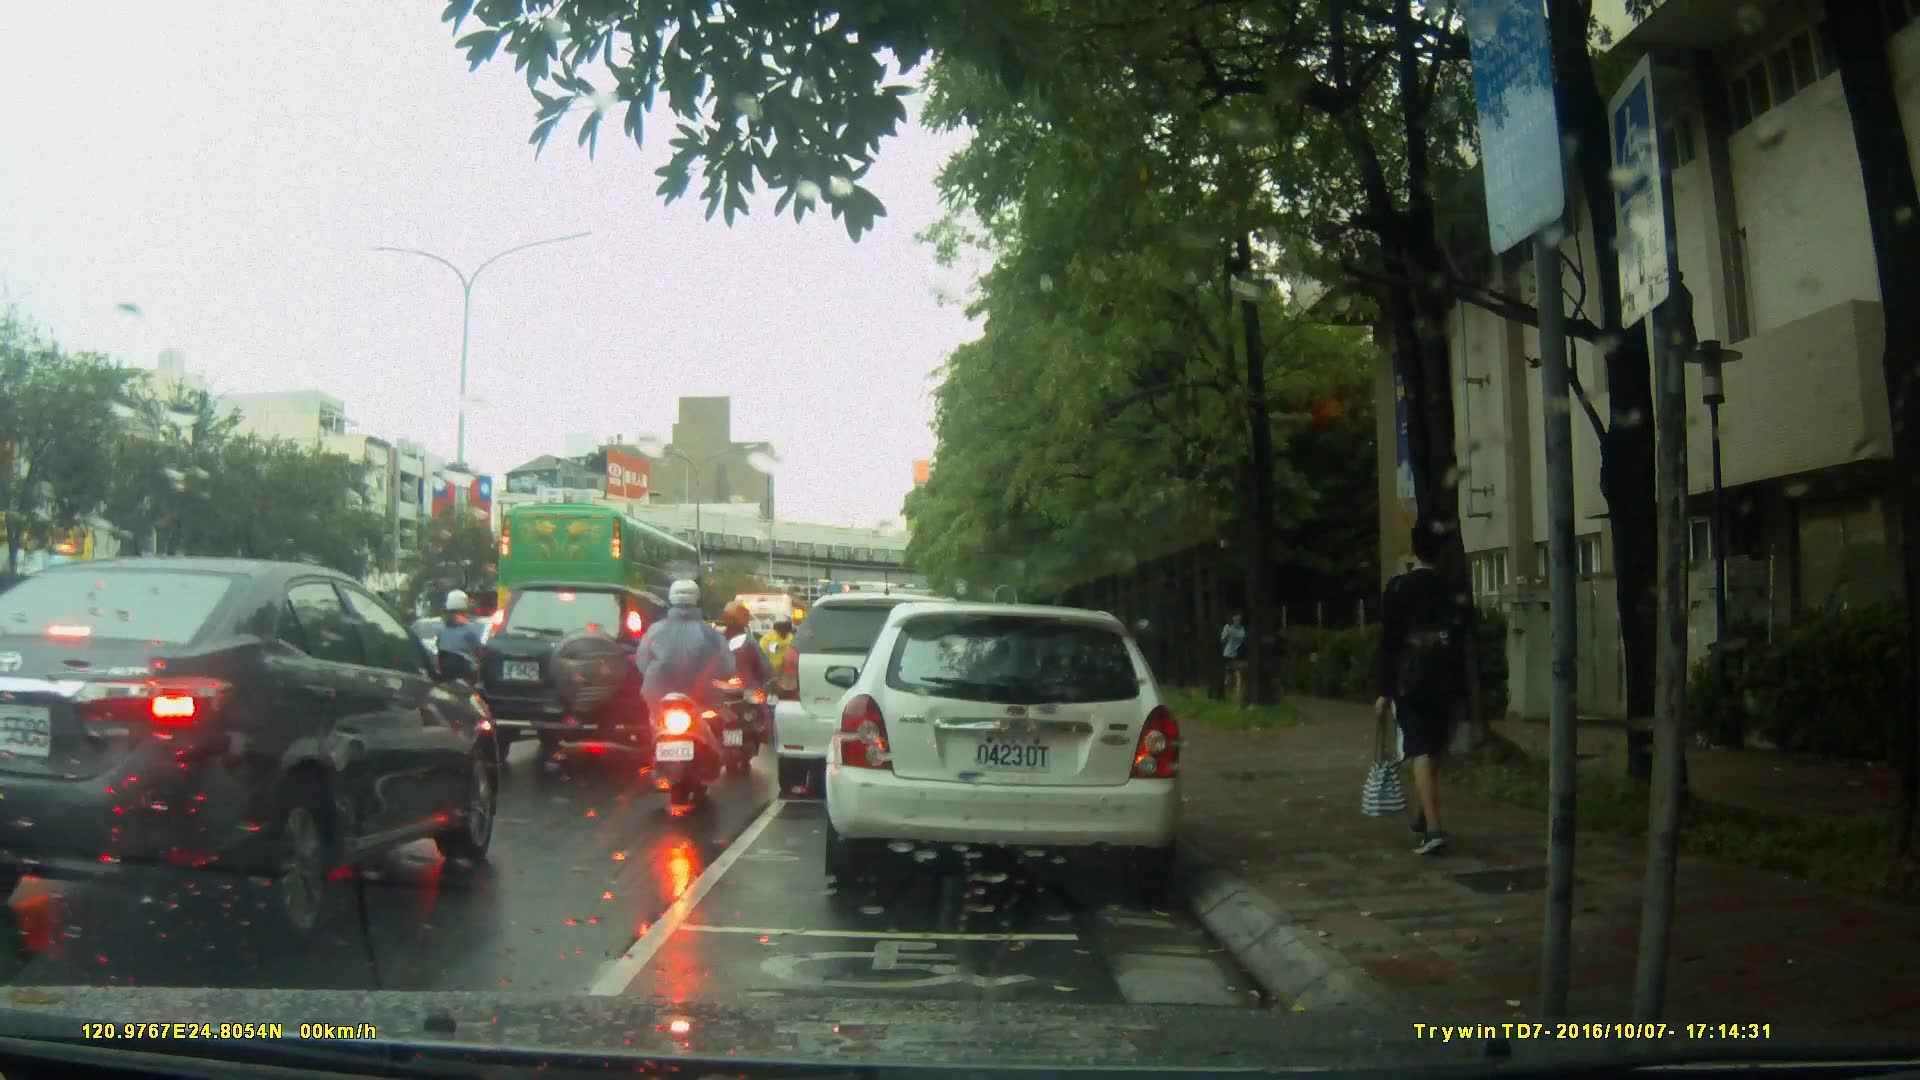pedestrian: (1355, 510, 1492, 857)
rider: (632, 580, 745, 808), (418, 585, 501, 733), (708, 602, 774, 775), (757, 612, 808, 717)
vehicle: (1, 556, 511, 959), (831, 592, 1196, 897), (770, 592, 999, 799), (474, 578, 694, 768), (495, 502, 706, 656)
